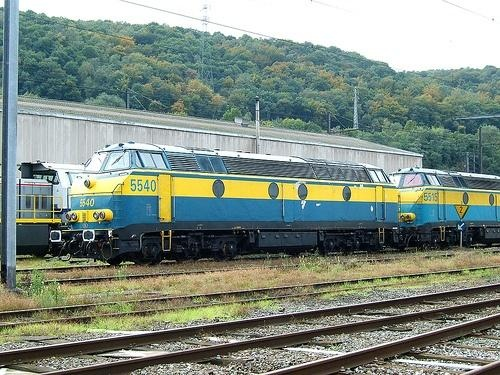train: (51, 142, 500, 262), (17, 162, 82, 253)
